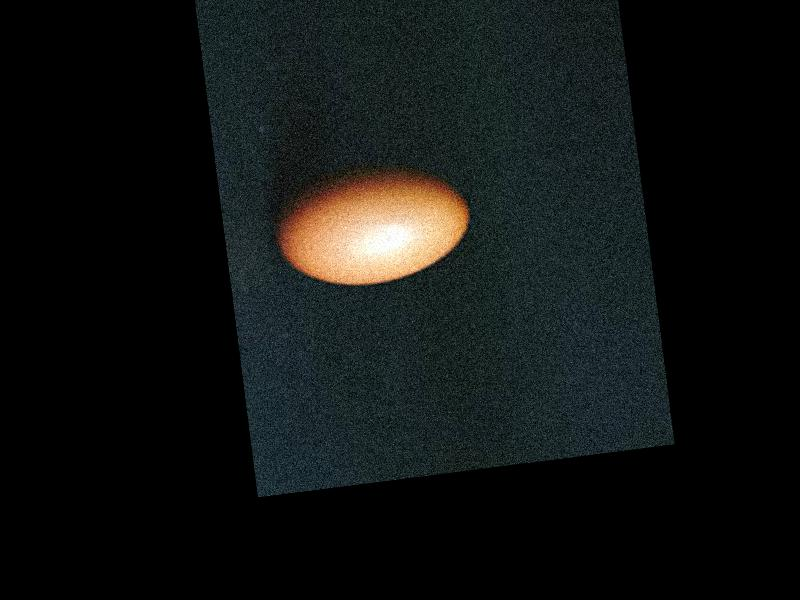Eggs: (267, 157, 475, 293)
